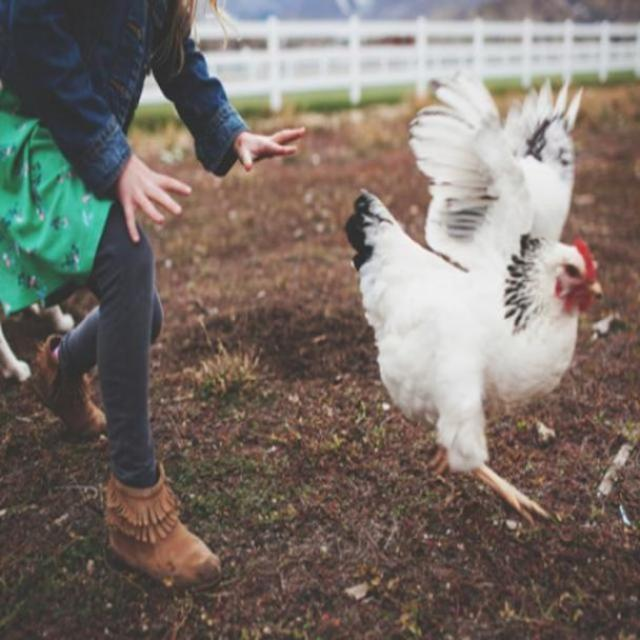Chicken: (340, 67, 606, 527), (403, 67, 589, 278)
